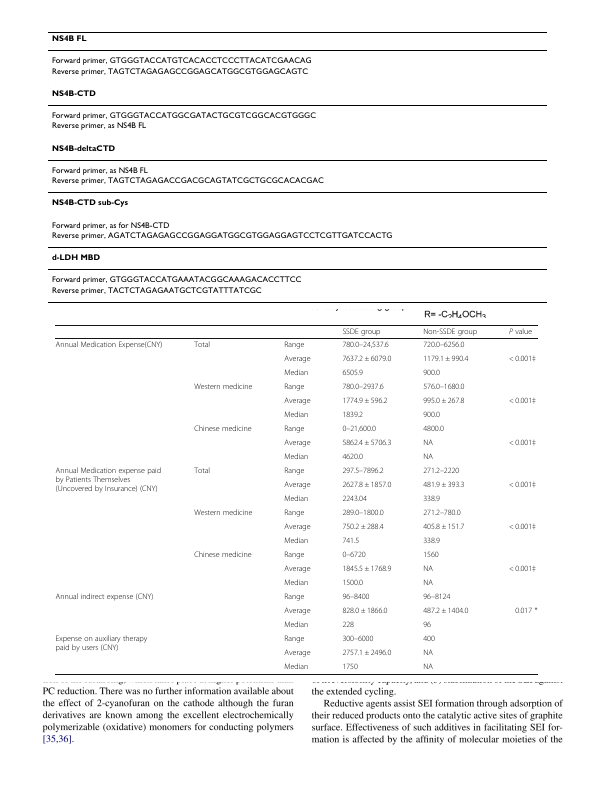borderless: (54, 323, 538, 674), (47, 30, 547, 302)
cell: (50, 231, 393, 241), (55, 466, 162, 494), (50, 176, 324, 186), (50, 111, 317, 121), (50, 67, 309, 77), (50, 57, 312, 66), (50, 276, 302, 285), (50, 286, 262, 296), (55, 634, 148, 653), (50, 221, 170, 231), (55, 340, 163, 350), (55, 592, 154, 602), (50, 166, 148, 176), (50, 122, 147, 131), (50, 199, 129, 208), (50, 144, 116, 154), (193, 382, 253, 392), (193, 508, 253, 518), (193, 424, 252, 434), (193, 550, 252, 560), (341, 354, 392, 364), (341, 438, 392, 448), (341, 480, 392, 490), (341, 564, 392, 574), (341, 648, 392, 658), (422, 327, 478, 336), (341, 340, 390, 350), (422, 354, 469, 364), (341, 396, 388, 406), (341, 606, 388, 616), (422, 606, 469, 616), (50, 89, 96, 99), (50, 254, 100, 263), (341, 522, 385, 532), (422, 340, 465, 350), (341, 382, 384, 392), (422, 382, 465, 392), (422, 396, 465, 406), (341, 466, 384, 476), (422, 480, 465, 490), (341, 508, 384, 518), (422, 522, 465, 532), (422, 508, 461, 518), (422, 466, 460, 476), (341, 327, 381, 336), (341, 424, 377, 434), (50, 35, 87, 44), (341, 634, 374, 644), (508, 354, 537, 364), (508, 396, 537, 406), (508, 438, 537, 448), (508, 480, 537, 490), (508, 522, 537, 532), (508, 564, 537, 574), (341, 592, 370, 602), (422, 592, 451, 602), (283, 354, 311, 364), (283, 396, 311, 406), (283, 438, 311, 448), (283, 480, 311, 490), (283, 522, 311, 532), (283, 564, 311, 574), (283, 606, 311, 616), (283, 648, 311, 658), (341, 494, 368, 504), (283, 368, 309, 378), (283, 410, 309, 420), (283, 452, 309, 462), (283, 494, 309, 504), (283, 536, 309, 546), (341, 550, 367, 560), (283, 578, 309, 588), (283, 620, 309, 630), (283, 662, 309, 672), (514, 606, 538, 616), (341, 368, 364, 378), (341, 410, 364, 420), (422, 424, 445, 434), (341, 452, 364, 462), (341, 578, 364, 588), (508, 327, 533, 336), (283, 340, 305, 350), (283, 382, 305, 392), (283, 424, 305, 434), (283, 466, 305, 476), (283, 508, 305, 518), (283, 550, 305, 560), (283, 592, 305, 602), (283, 634, 305, 644), (422, 368, 441, 378), (422, 410, 441, 420), (422, 494, 441, 504), (341, 536, 360, 546), (422, 536, 441, 546), (193, 340, 211, 350), (193, 466, 211, 476), (422, 550, 440, 560), (341, 662, 359, 672), (341, 620, 355, 630), (422, 634, 436, 644), (422, 438, 434, 448), (422, 452, 434, 462), (422, 564, 434, 574), (422, 578, 434, 588), (422, 648, 434, 658), (422, 662, 434, 672), (422, 620, 432, 630)
